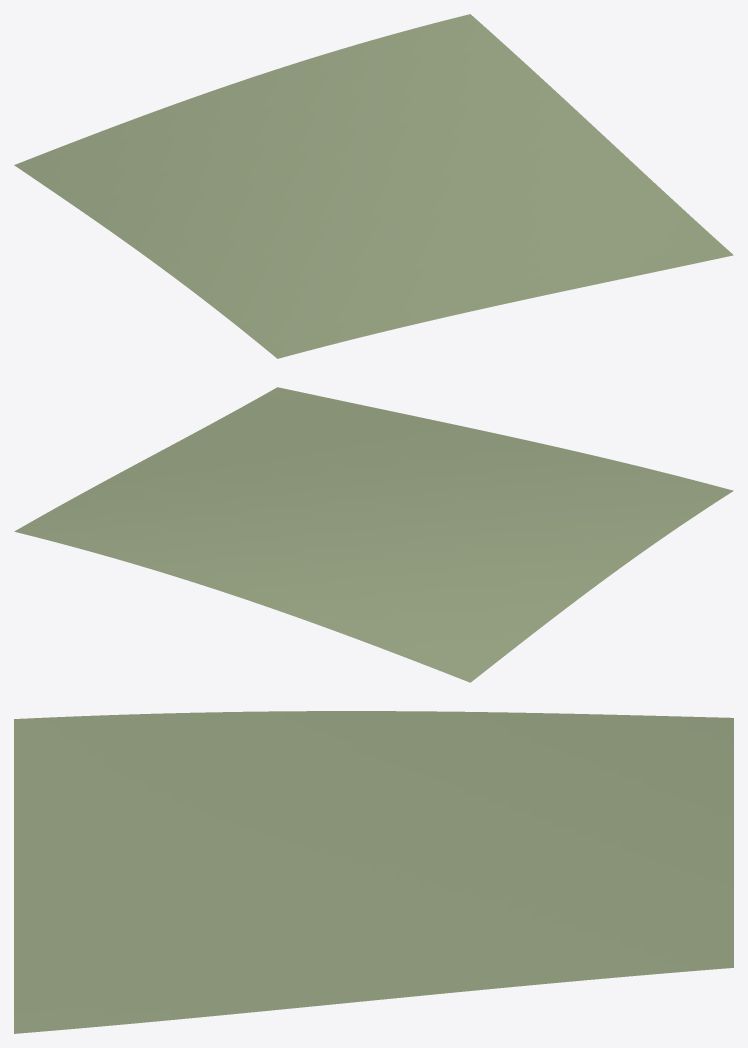
The model's file is alpine-12-15.glb.
3 renders of one model, top to bottom at view 1: azimuth 30°, elevation 25°; view 2: azimuth 150°, elevation 25°; view 3: azimuth 270°, elevation 25°, orthographic. The views are drawn at different scales.
Parts seen in each view (by area): view 1: alpine-12-15; view 2: alpine-12-15; view 3: alpine-12-15.
Part boxes in pixels (<box>): alpine-12-15: <box>14,14,733,358</box>; alpine-12-15: <box>14,387,733,682</box>; alpine-12-15: <box>14,711,733,1033</box>.
Bounding box in the file's own units: 256 × 25.93 × 256.
